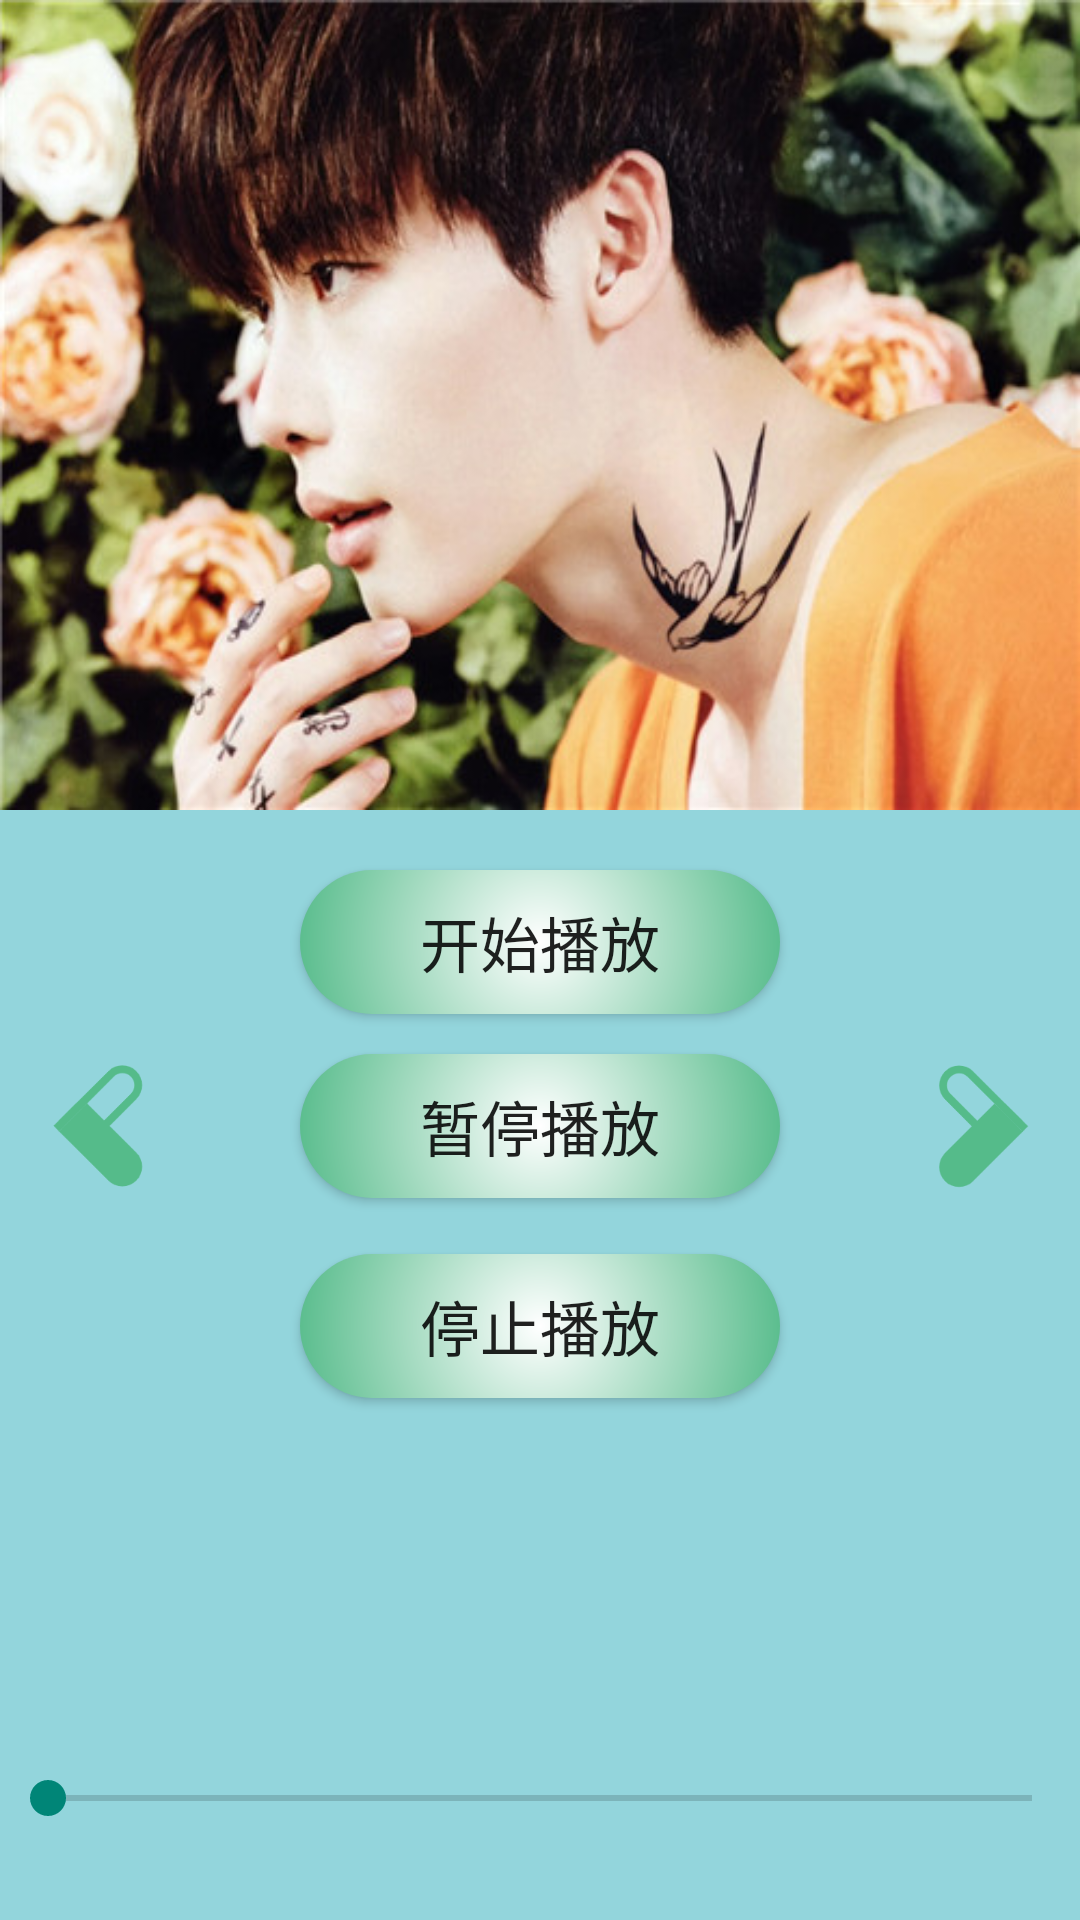

Point at icon controls on the screen. Image size 1080w x 1920h, points as (x,y).
music next: (983,1126)
music prev: (98,1126)
